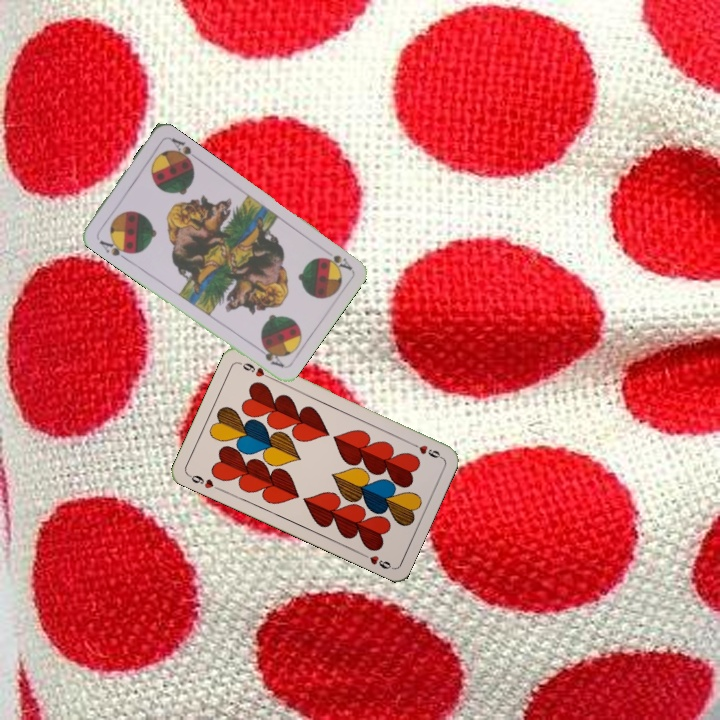H9: (184, 470, 223, 493), (406, 438, 444, 461)
SA: (95, 234, 133, 262), (317, 251, 354, 273)
